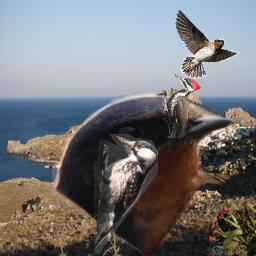Swallow: (52, 92, 242, 256), (174, 8, 244, 79)
Woodpecker: (94, 134, 158, 254), (162, 73, 201, 138)
